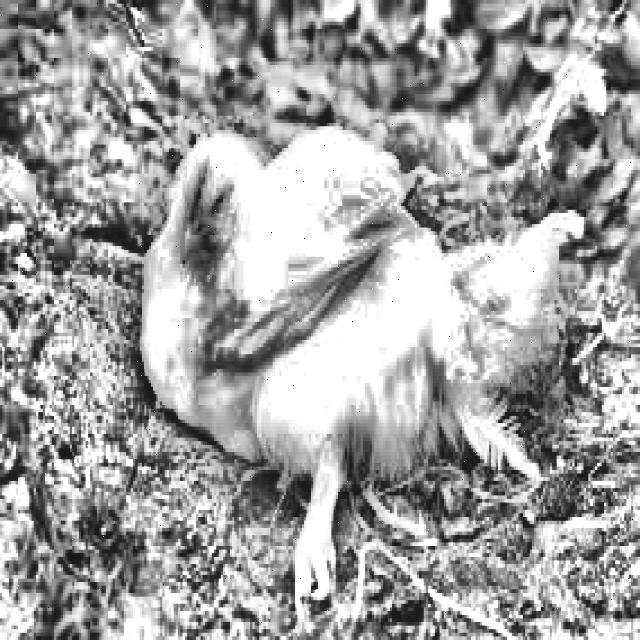Newcastle: (124, 70, 576, 588)
